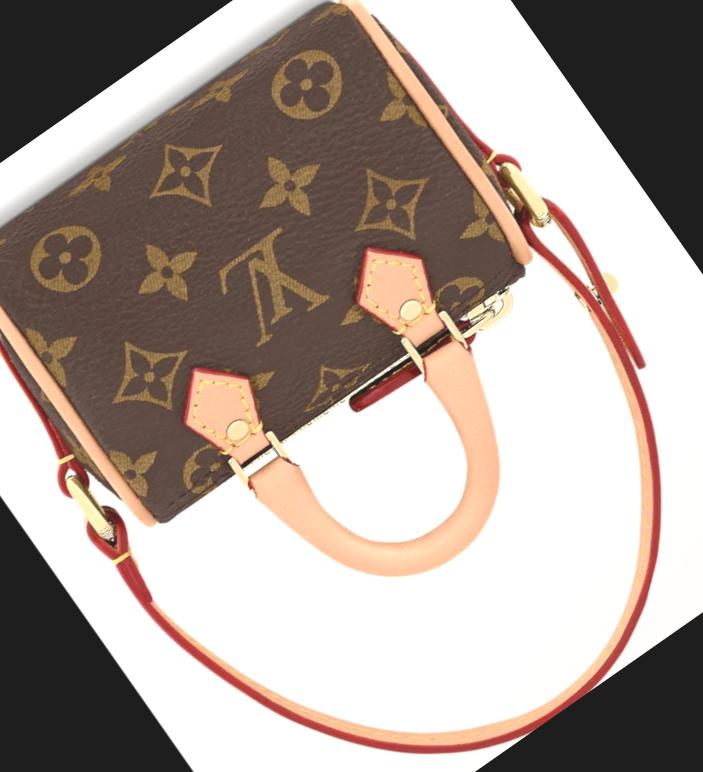LOUIS-VUITTON: (0, 0, 572, 555)
